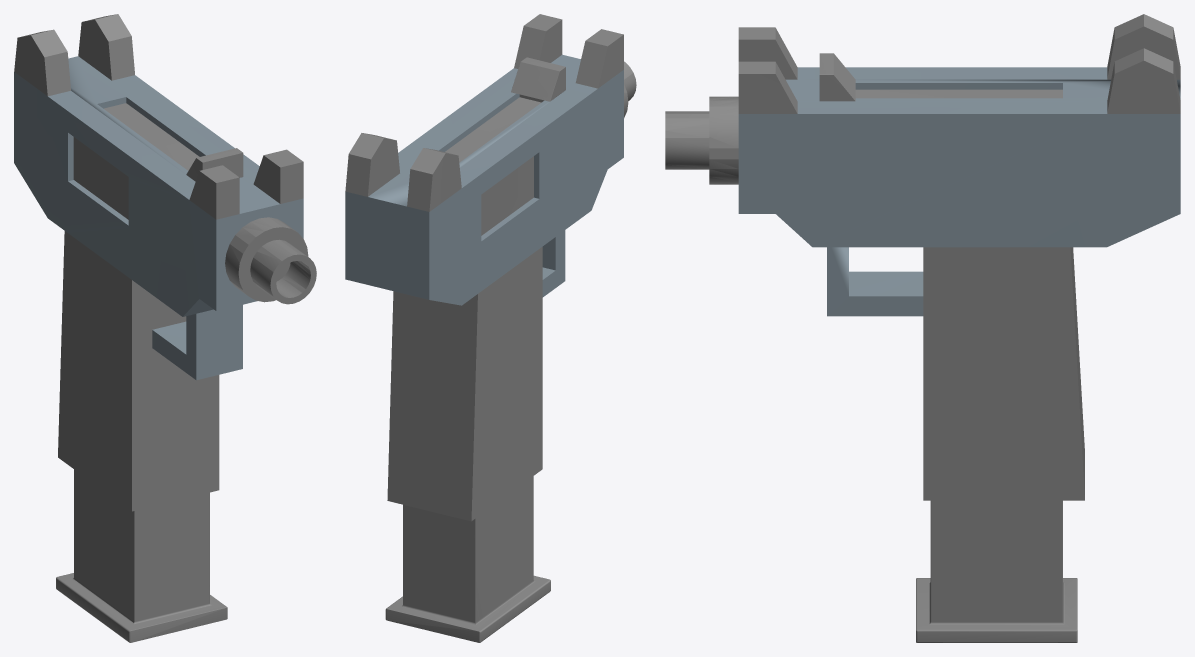
Rendered from uzi.glb.
3 renders of one model, left to right at view 1: azimuth 30°, elevation 25°; view 2: azimuth 150°, elevation 25°; view 3: azimuth 270°, elevation 25°, orthographic. The views are drawn at different scales.
Parts seen in each view (by area): view 1: Group.001, Group.002, Group; view 2: Group.001, Group.002, Group; view 3: Group.001, Group.002, Group.
Boxes of the visible parts, bbox=[...] form: Group.001: bbox=[14, 14, 316, 511]; Group.002: bbox=[56, 469, 227, 642]; Group: bbox=[186, 148, 243, 181]; Group.001: bbox=[345, 14, 636, 521]; Group.002: bbox=[385, 476, 550, 642]; Group: bbox=[511, 57, 565, 102]; Group.001: bbox=[665, 14, 1180, 500]; Group.002: bbox=[916, 500, 1077, 642]; Group: bbox=[819, 53, 855, 101].
Bounding box in the file's own units: 0.0651 × 0.333 × 0.2683.
